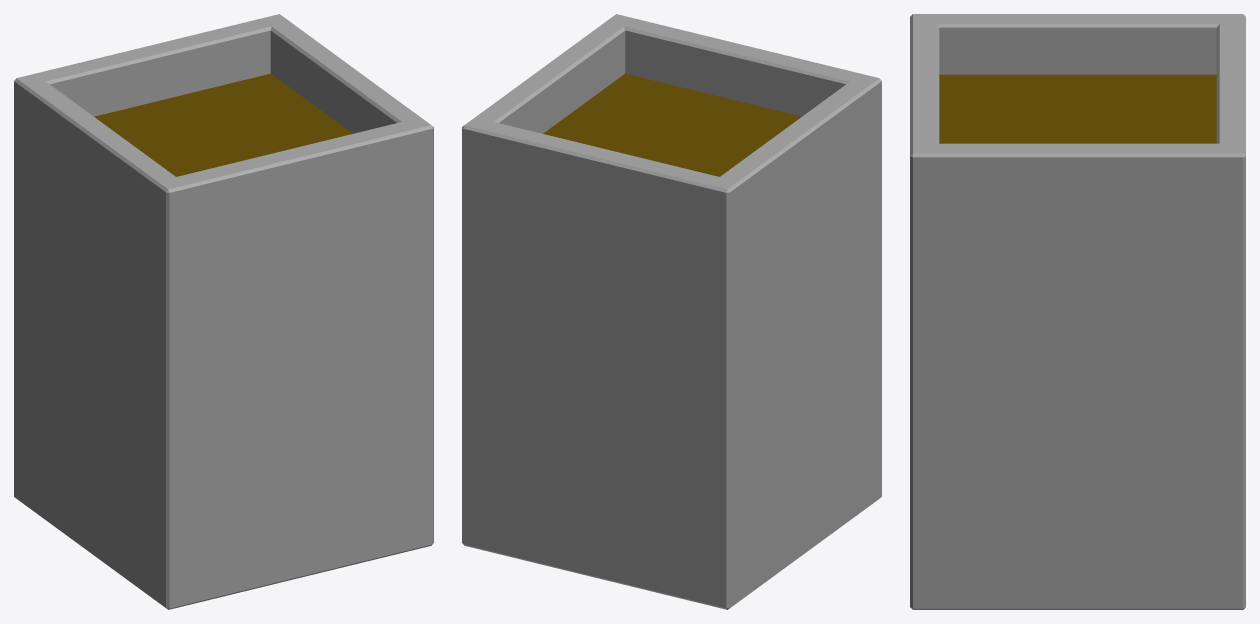
File: planter_box.fbx
3 views of the same model, side by side, from view 1: azimuth 30°, elevation 25°; view 2: azimuth 150°, elevation 25°; view 3: azimuth 270°, elevation 25° (orthographic). The views are drawn at different scales.
Parts seen in each view (by area): view 1: Planter_Box; view 2: Planter_Box; view 3: Planter_Box.
Boxes of the visible parts, <box> form: Planter_Box: <box>14,14,433,609</box>; Planter_Box: <box>462,14,881,609</box>; Planter_Box: <box>910,14,1245,609</box>.
Size of the model in its own units: 50 by 75 by 50.
